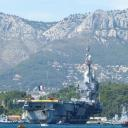Portanaves: (18, 39, 100, 127)
